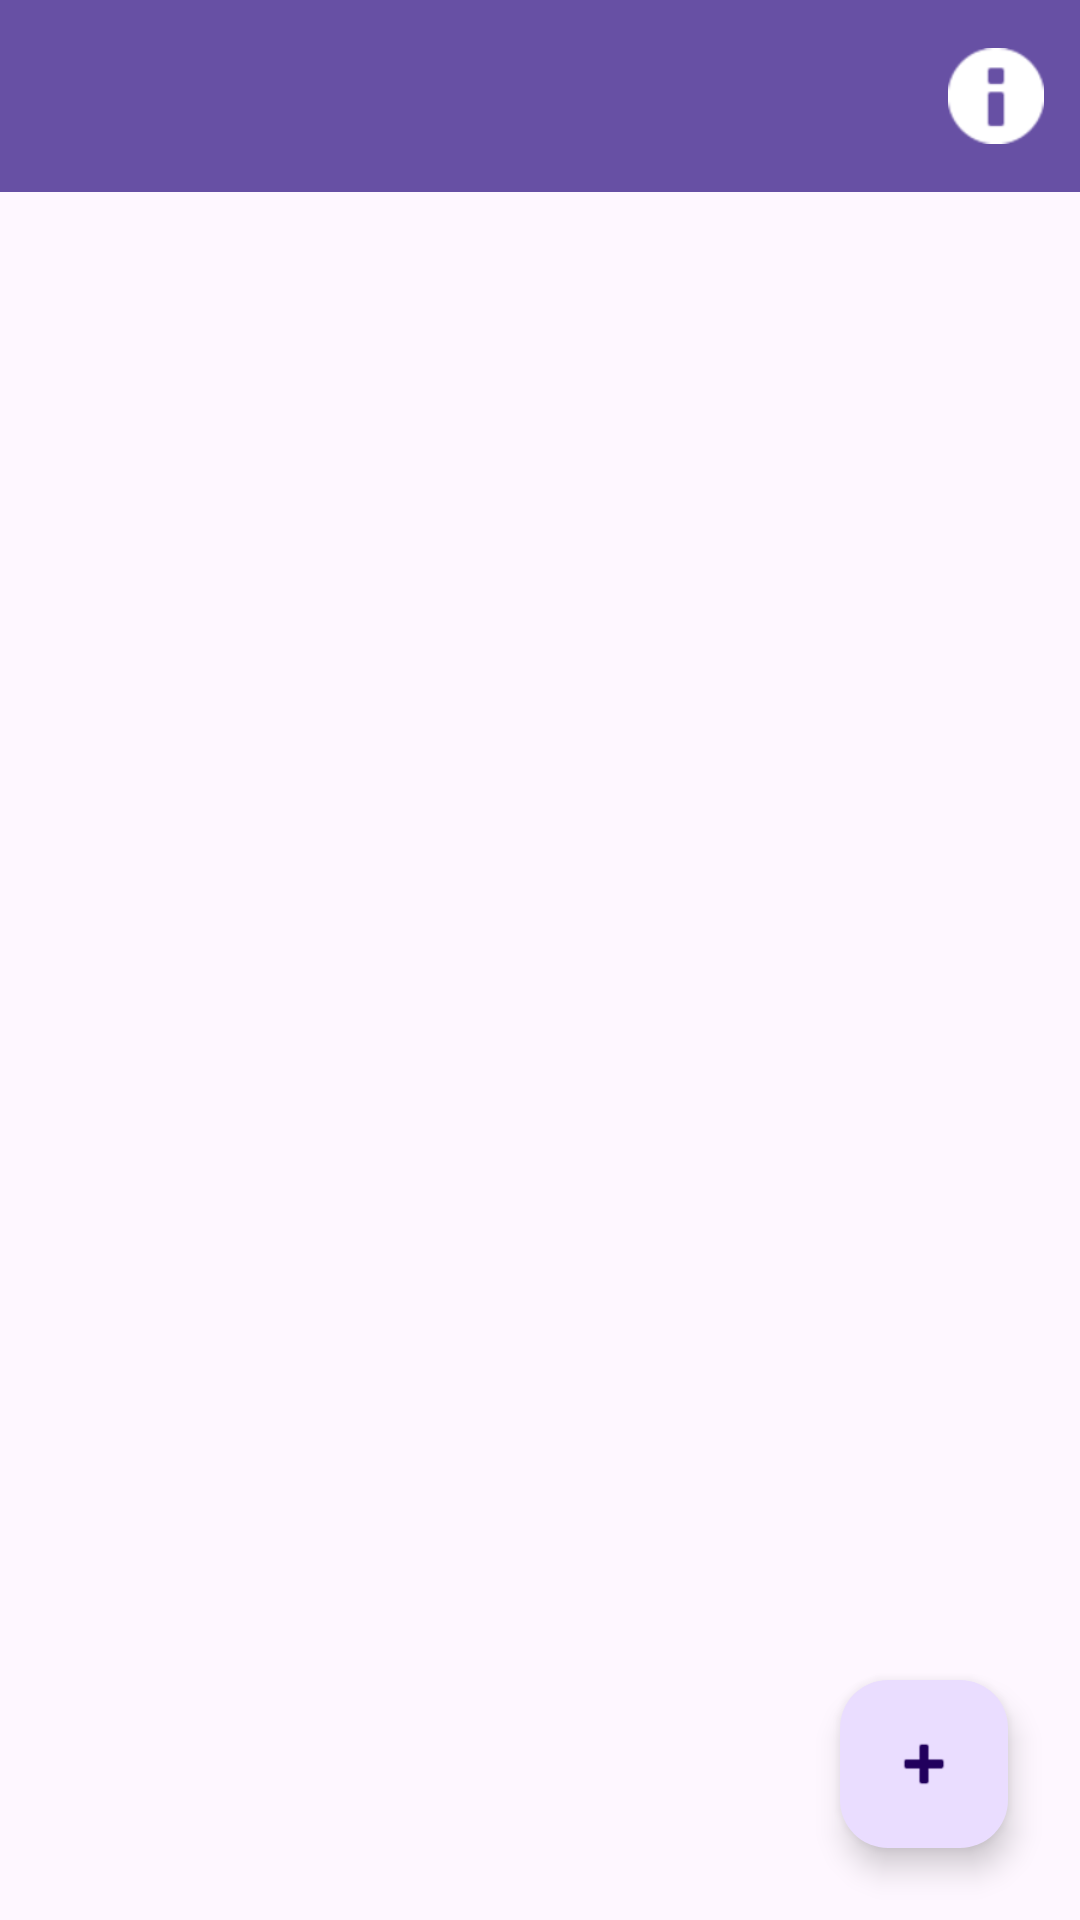

Icons on this 1080w x 1920h Android screen, each with the point to tap as (x=x, y=y):
Add schedule: (x=924, y=1764)
Permissions Setup Instructions: (x=996, y=96)
